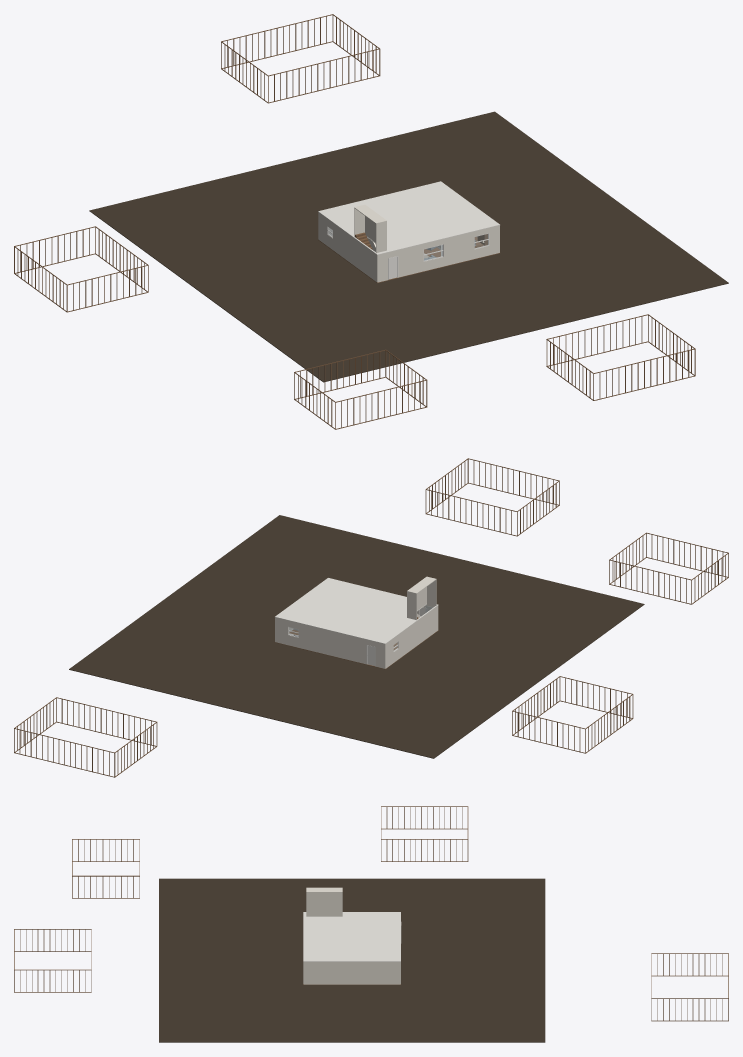
Rendered from ModelHome_House.fbx.
3 views of the same model, one above another, from view 1: azimuth 30°, elevation 25°; view 2: azimuth 150°, elevation 25°; view 3: azimuth 270°, elevation 25° (orthographic). The views are drawn at different scales.
Visible parts, largest first — view 1: Ground, EstateFrames, Ceiling, Walls, Stairs; view 2: Ground, EstateFrames, Ceiling, Walls, Stairs; view 3: Ground, Ceiling, EstateFrames, Walls, Stairs.
Boxes of the visible parts, x1,y1,x2,y2 form: Ground: (89,111,728,382); EstateFrames: (14,14,695,429); Ceiling: (318,181,499,254); Walls: (318,212,499,282); Stairs: (354,204,386,252); Ground: (69,515,644,758); EstateFrames: (14,458,728,777); Ceiling: (275,578,438,644); Walls: (275,604,438,668); Stairs: (407,576,436,620); Ground: (159,878,545,1042); Ceiling: (303,912,400,961); EstateFrames: (14,806,728,1021); Walls: (303,962,400,984); Stairs: (306,887,342,916).
Size of the model in its own units: 52.03 by 5.58 by 74.06.
